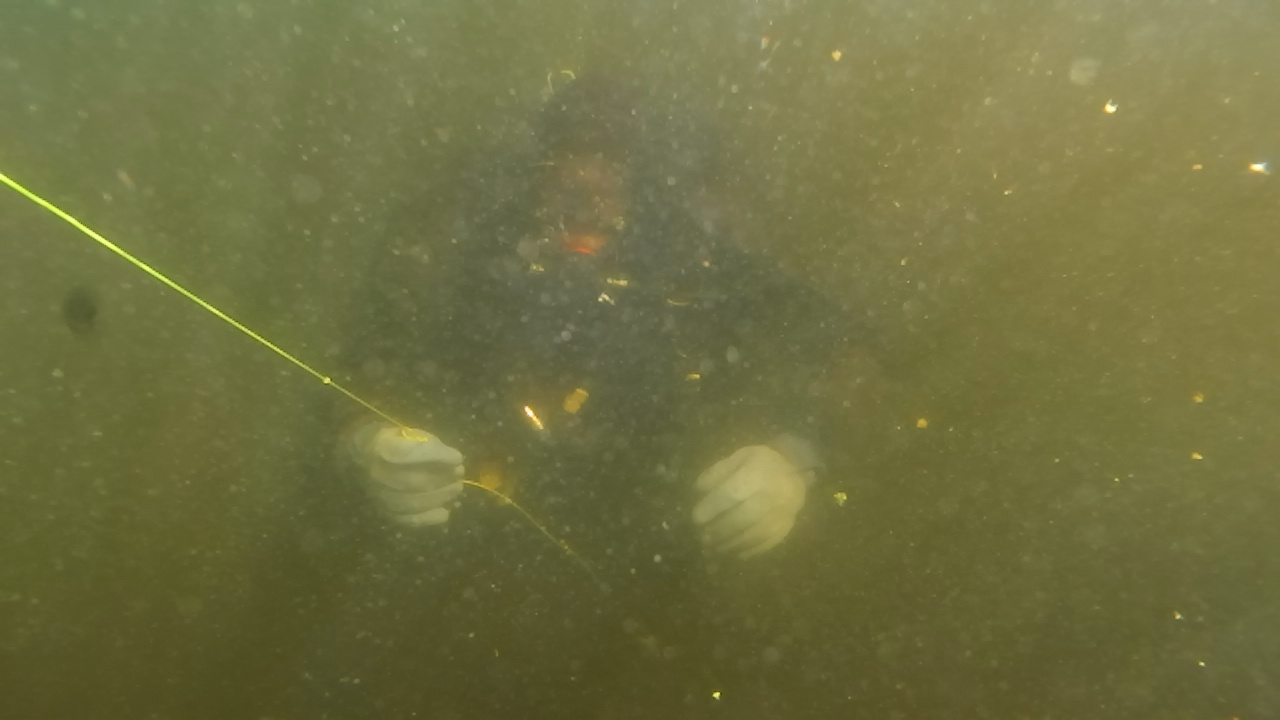Diver: (276, 52, 954, 600)
Hand: (308, 386, 498, 554), (676, 426, 866, 588)
Head: (520, 60, 662, 270)
